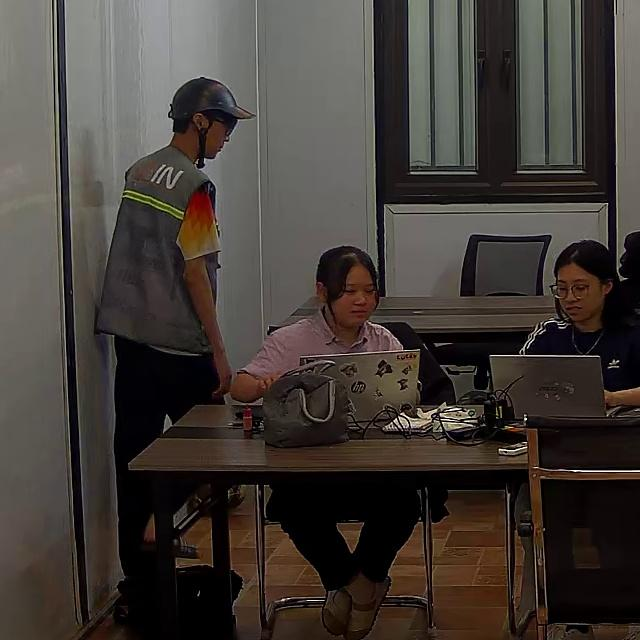helmet: (169, 76, 257, 124)
no_helmet: (551, 239, 626, 317)
none: (236, 308, 400, 395), (519, 314, 639, 395)
vest: (93, 143, 225, 351)
